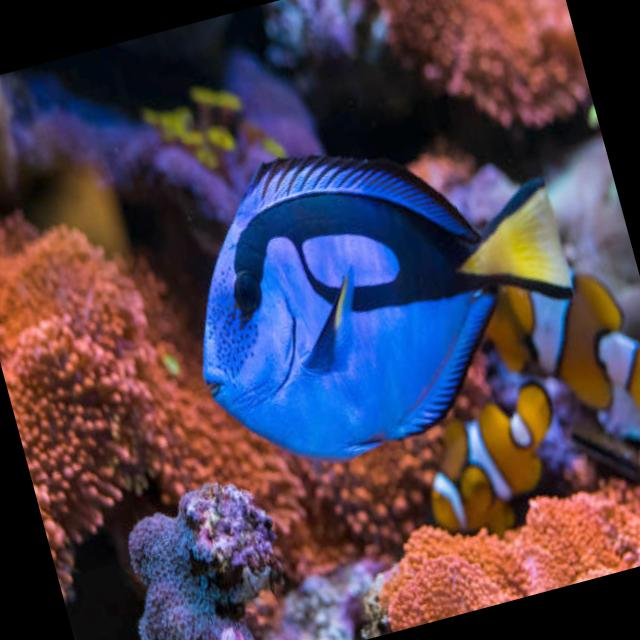ClownFish: (474, 212, 640, 450), (402, 392, 560, 538)
